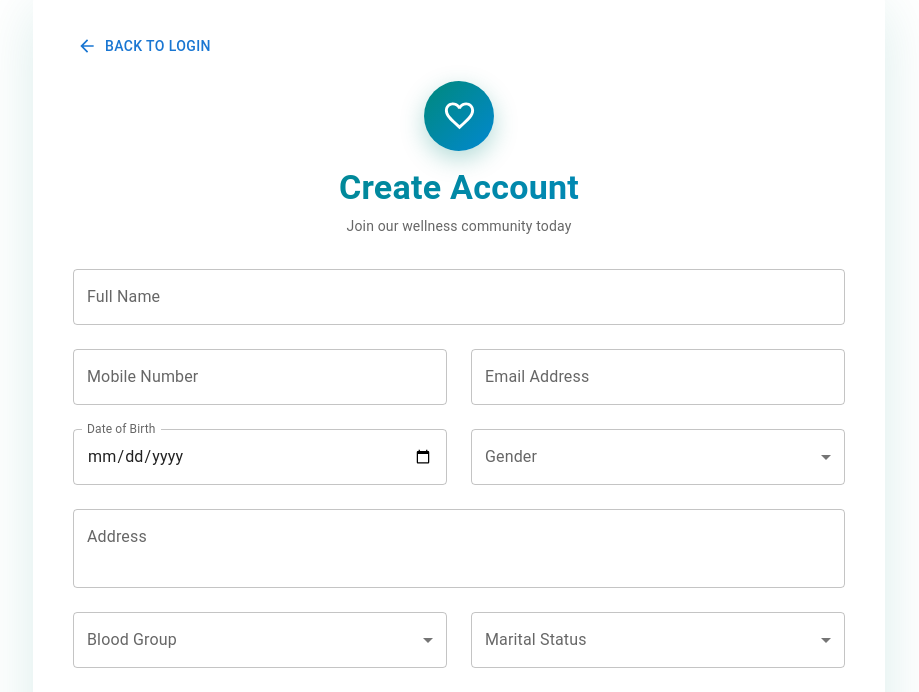
Test: RegistrationScreen Component › Full Name Validation › shows error for name less than 3 characters
The image size is (919, 692).
Type "Jo" into the field labelled "Full Name" at (459, 296), box [73,268,845,324]
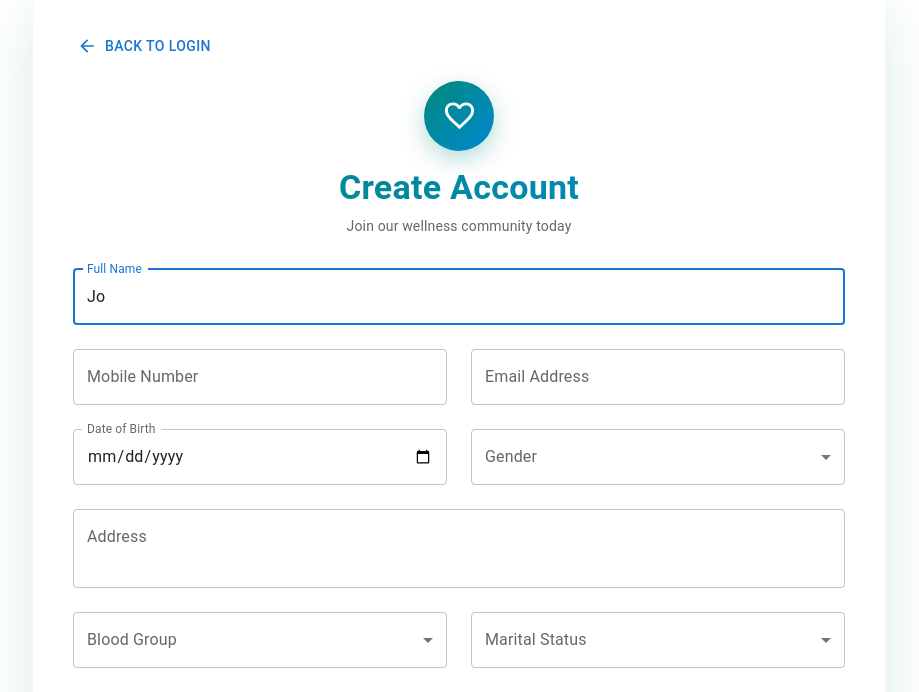
Leave the field labelled "Full Name", box [73,268,845,324]
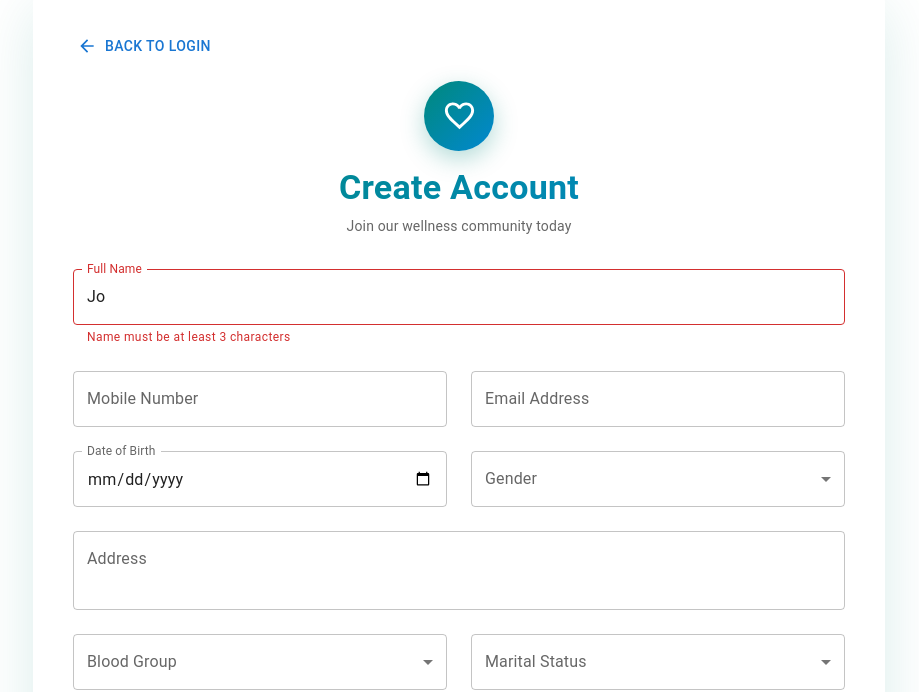
Expected: the text "Name must be at least 3 characters" is shown, [87,330,290,344]
